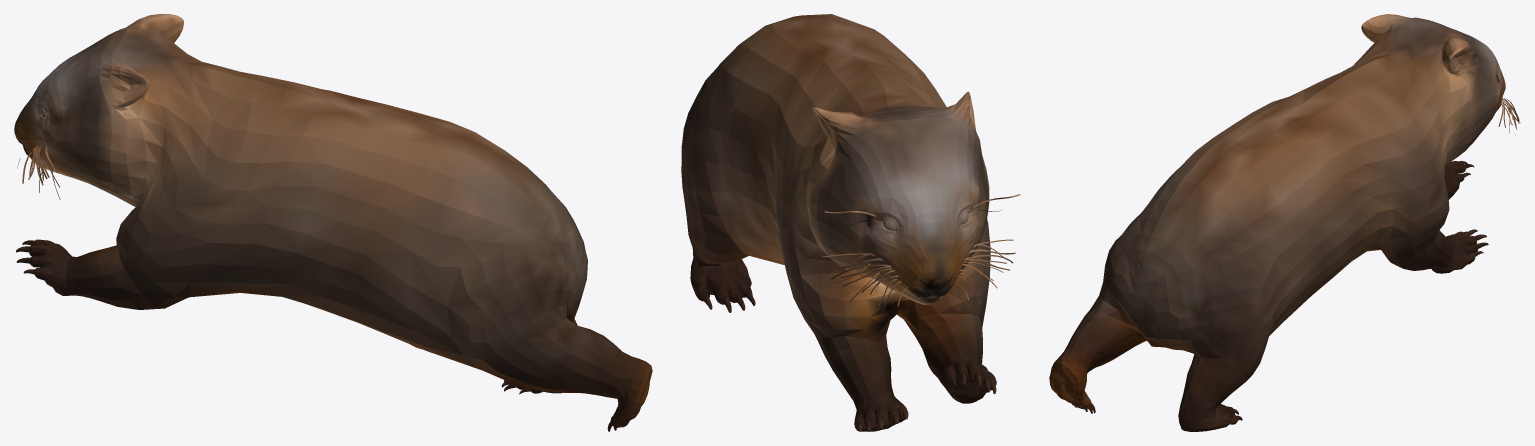
The model's file is wombat.mesh.glb.
3 views of the same model, side by side, from view 1: azimuth 30°, elevation 25°; view 2: azimuth 150°, elevation 25°; view 3: azimuth 270°, elevation 25° (orthographic). The views are drawn at different scales.
Visible parts, largest first — view 1: root; view 2: root; view 3: root.
Boxes of the visible parts, x1,y1,x2,y2 form: root: [14, 14, 652, 431]; root: [681, 14, 1020, 431]; root: [1049, 14, 1520, 431].
Size of the model in its own units: 0.5287 by 0.3952 by 0.607.
1 material, 1 textured.
